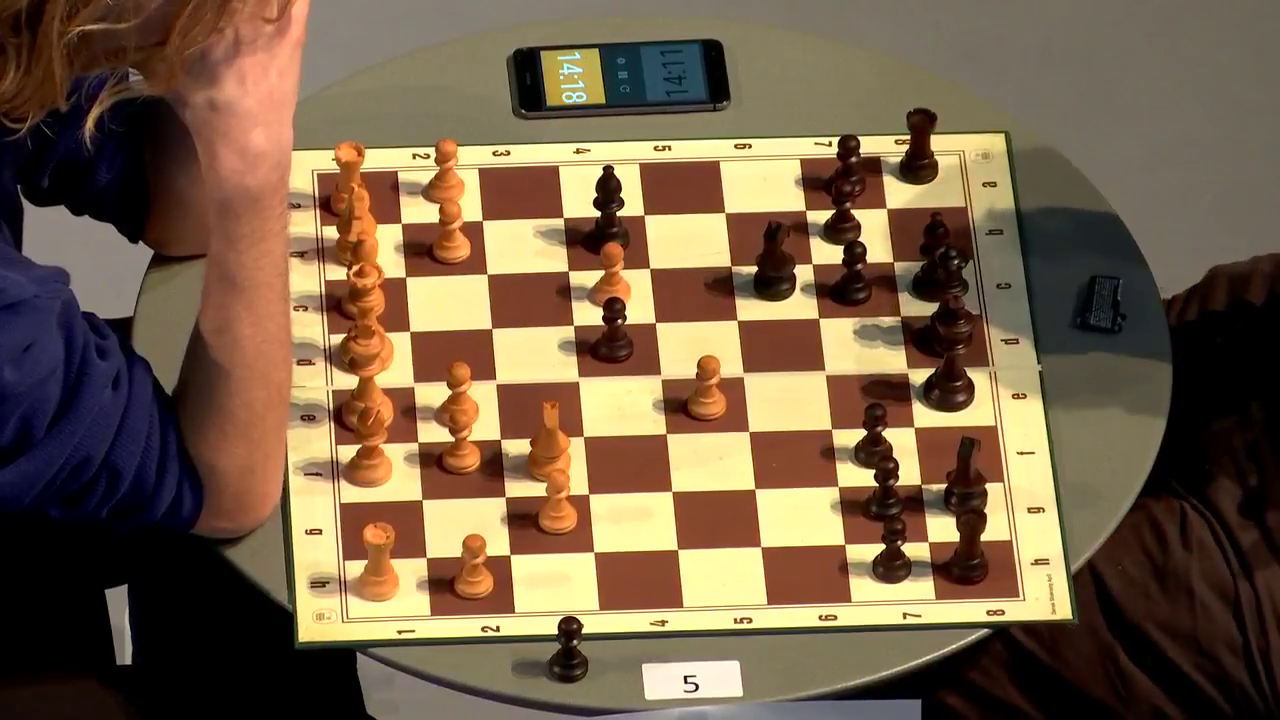black-bishop: (911, 211, 956, 303), (585, 165, 631, 255)
black-king: (923, 293, 975, 413)
black-knight: (751, 220, 797, 301), (943, 435, 988, 514)
black-pawn: (592, 295, 634, 365), (825, 133, 867, 200), (548, 616, 589, 683), (854, 402, 894, 470), (872, 516, 912, 584), (832, 240, 873, 306), (864, 455, 905, 521), (822, 180, 862, 246)
black-queen: (927, 243, 970, 356)
black-rook: (947, 507, 989, 586), (898, 107, 939, 185)
white-bishop: (346, 400, 393, 489), (340, 231, 387, 319)
white-king: (341, 319, 394, 433)
white-knight: (527, 401, 573, 483), (335, 183, 379, 268)
white-pawn: (588, 242, 632, 308), (687, 354, 727, 422), (440, 360, 480, 428), (441, 409, 482, 475), (454, 534, 495, 600), (425, 138, 466, 203), (538, 469, 578, 535), (432, 200, 471, 265)
white-rook: (339, 261, 394, 373), (356, 521, 400, 602), (329, 141, 371, 218)
